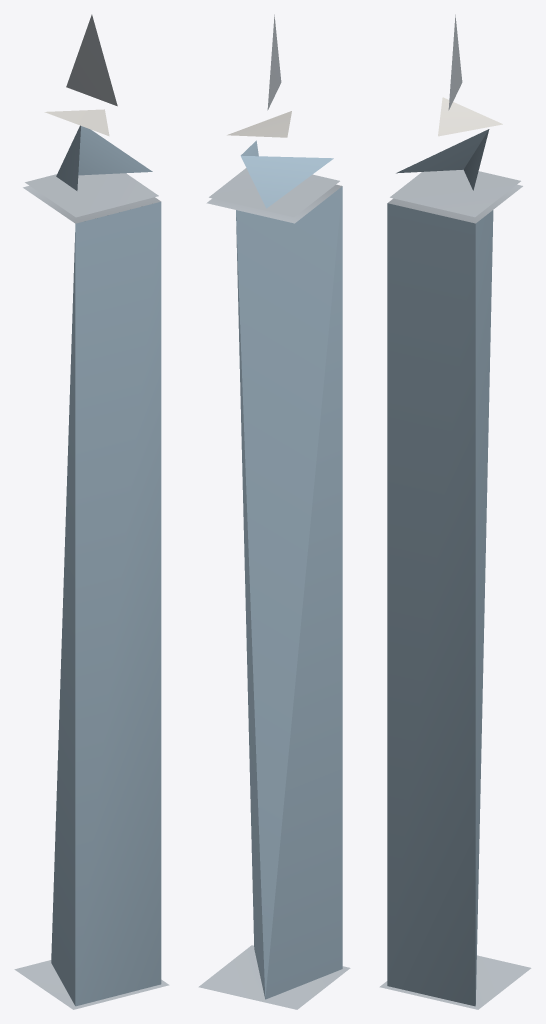
The model's file is tower_04_lod1.glb.
3 views of the same model, side by side, from view 1: azimuth 30°, elevation 25°; view 2: azimuth 150°, elevation 25°; view 3: azimuth 330°, elevation 25° (orthographic).
Visible parts, largest first — view 1: tower_04_lod1; view 2: tower_04_lod1; view 3: tower_04_lod1.
Part boxes in pixels (x1=…): tower_04_lod1: x1=14, y1=14, x2=169, y2=1009; tower_04_lod1: x1=198, y1=14, x2=350, y2=1009; tower_04_lod1: x1=379, y1=14, x2=531, y2=1009.
Bounding box in the file's own units: 39.55 × 362 × 39.35.
